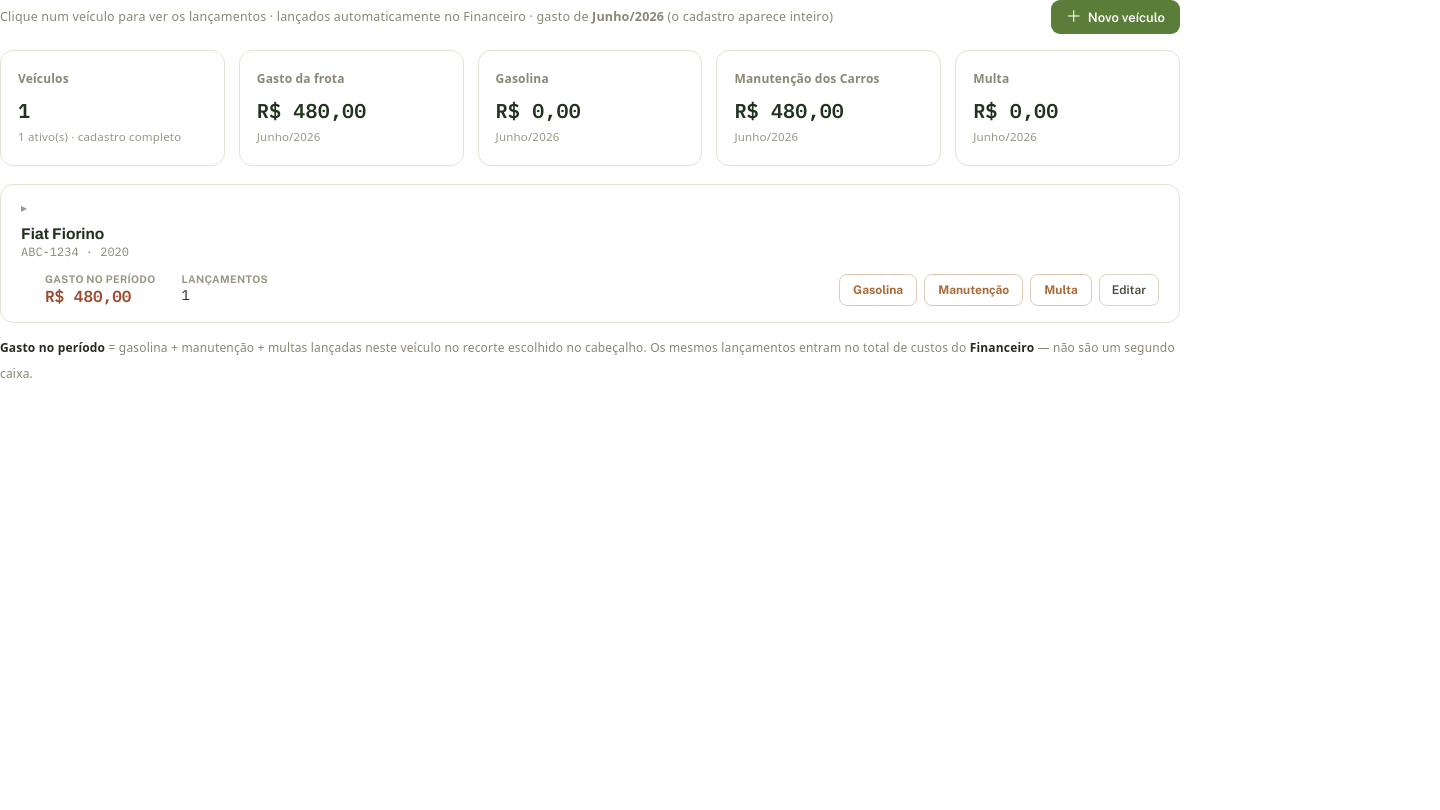
VeiculosLista — o botao abre o modal de lancamento QUE JA EXISTE, pre-preenchido › clicar numa linha do historico abre o MESMO modal em modo edicao
The image size is (1440, 810).
Expected: the text "Fiat Fiorino" is shown, 21,225 -> 104,242
Click the button that starts with "Fiat Fiorino". click: (63, 234)
box: 21,201 -> 827,306
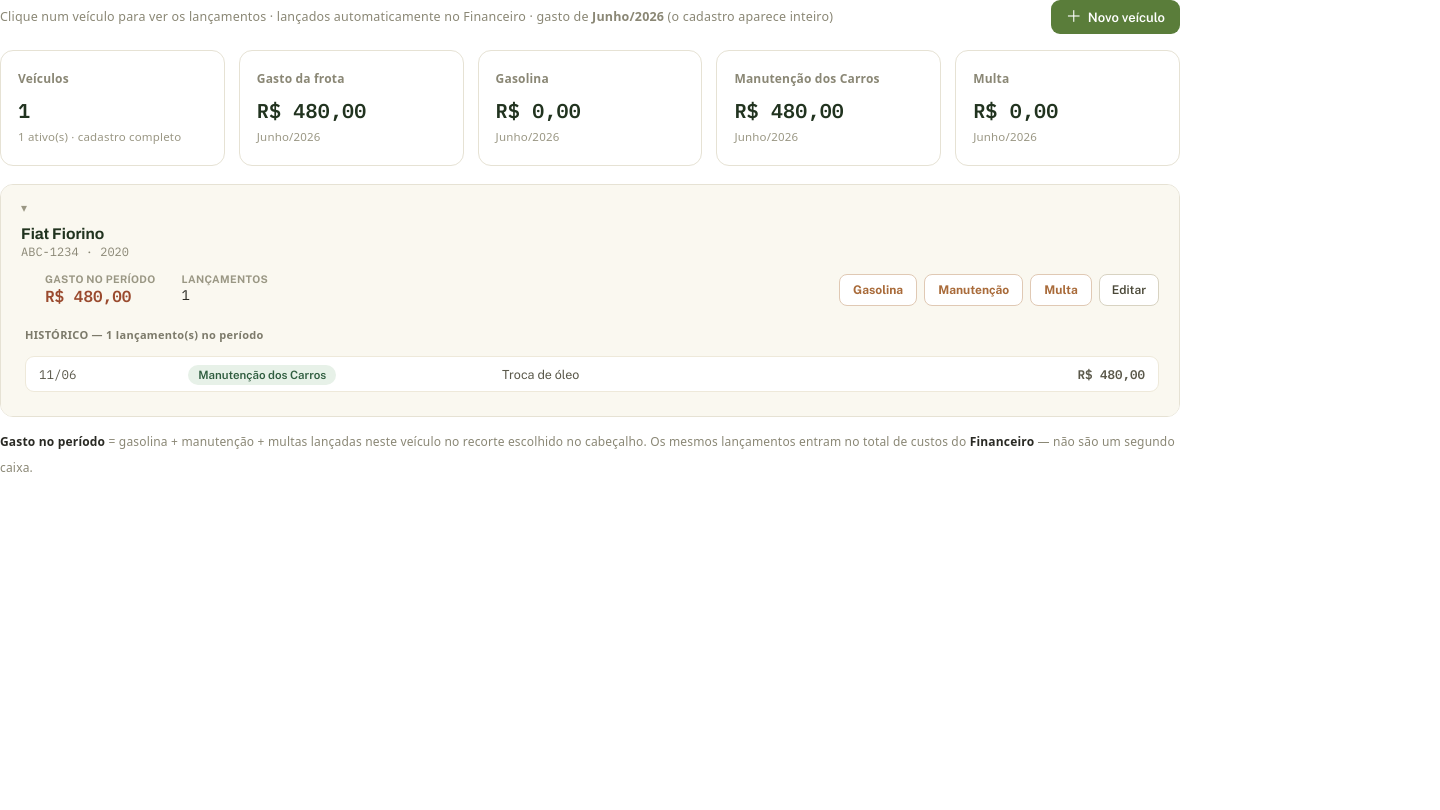
Click the text "Troca de óleo". click: (541, 374)
box: 502,367 -> 579,382
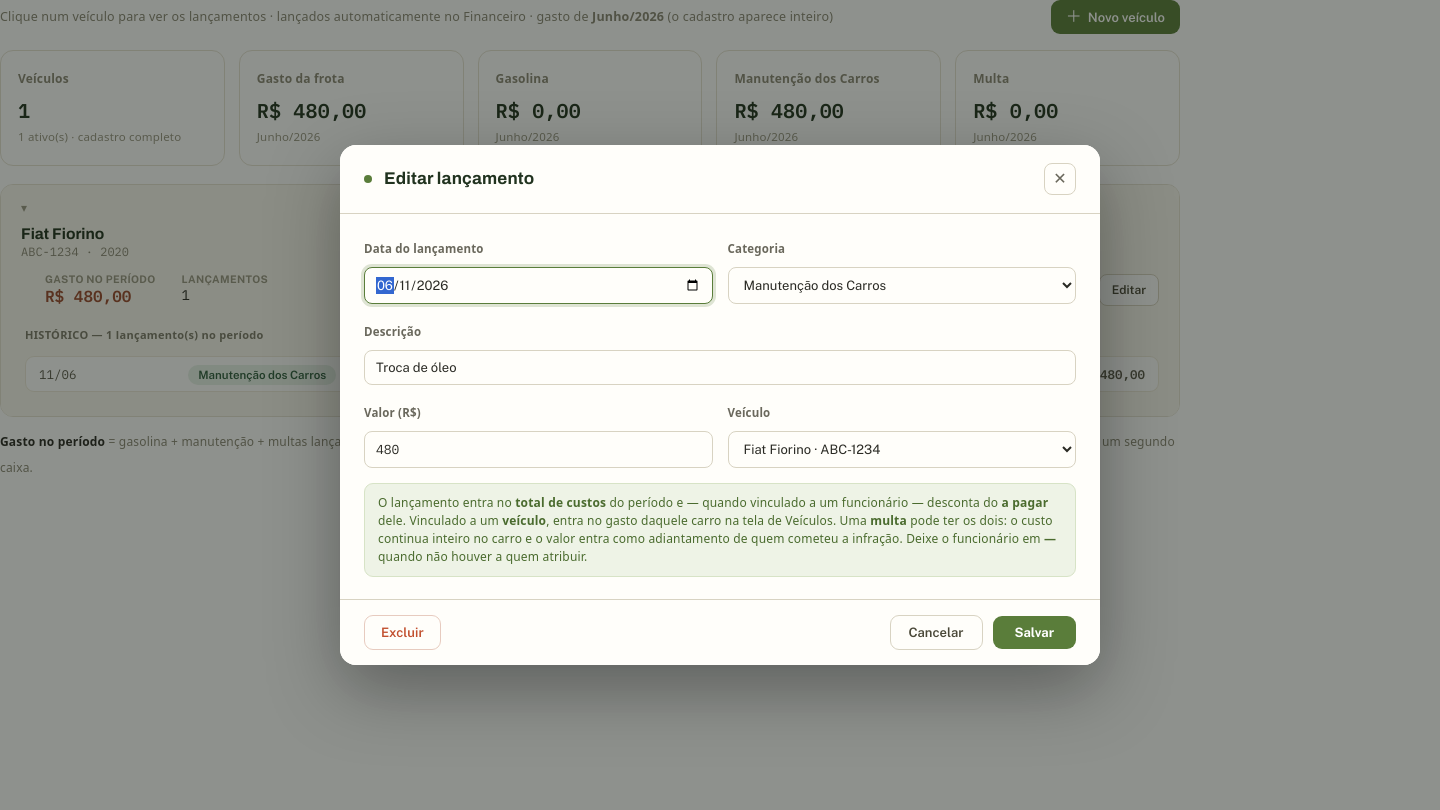
Now the dialog "Editar lançamento" is shown
Now the dropdown labelled "Veículo" shows "Fiat Fiorino · ABC-1234", box 728,431 -> 1076,468
